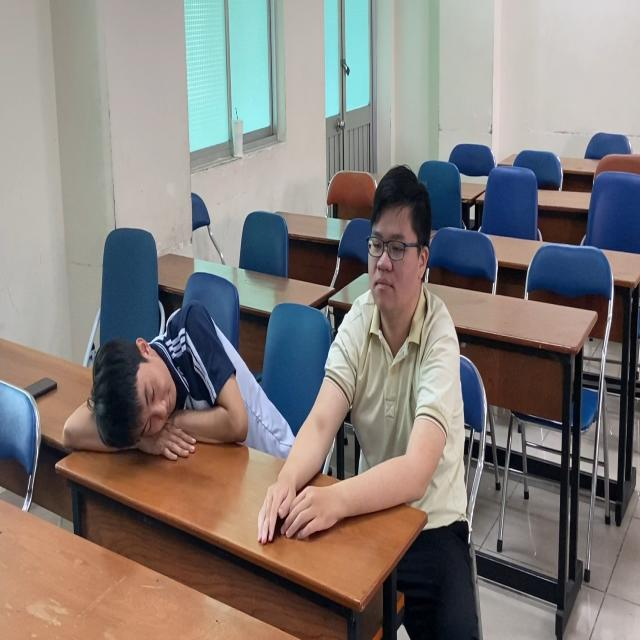sleep: (61, 301, 263, 473)
